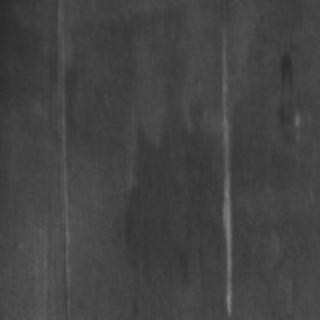scratches: (50, 0, 74, 282), (215, 45, 235, 312)
